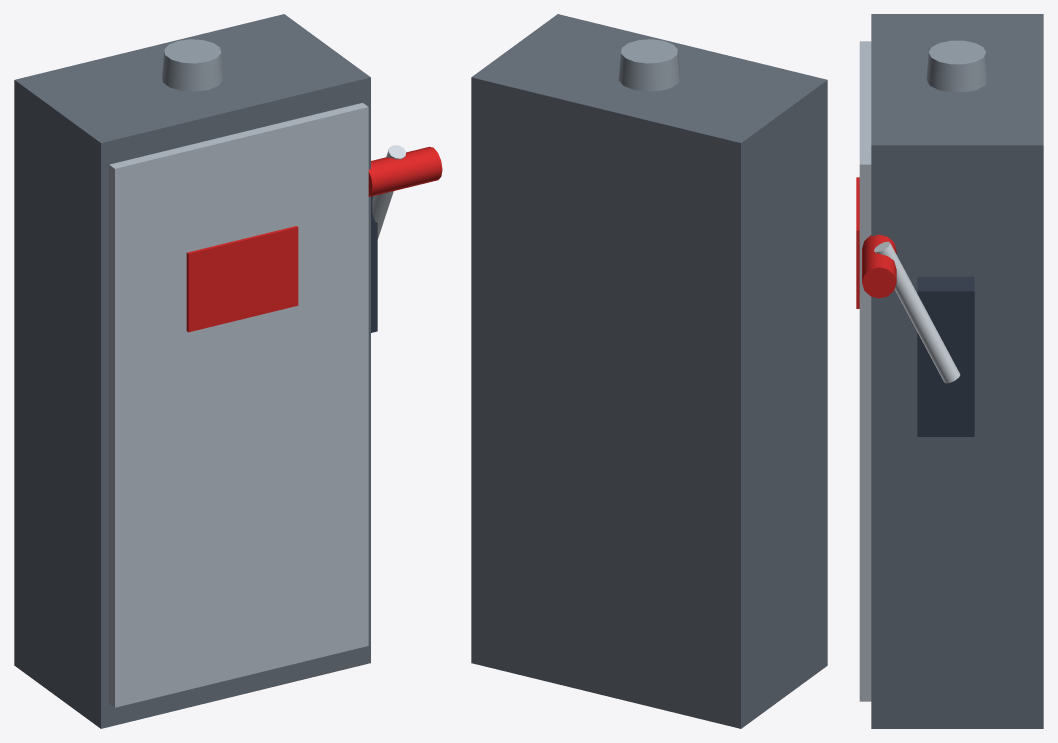
The picture shows the model from 3 angles, left to right: view 1: azimuth 30°, elevation 25°; view 2: azimuth 150°, elevation 25°; view 3: azimuth 270°, elevation 25°; orthographic projection.
Parts seen in each view (by area): view 1: cad-safety-disconnect-100a; view 2: cad-safety-disconnect-100a; view 3: cad-safety-disconnect-100a.
Boxes of the visible parts, x1=… form: cad-safety-disconnect-100a: x1=14, y1=14, x2=442, y2=728; cad-safety-disconnect-100a: x1=471, y1=14, x2=827, y2=728; cad-safety-disconnect-100a: x1=856, y1=14, x2=1043, y2=728.
Bounding box in the file's own units: 0.337 × 0.586 × 0.163.
